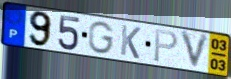5: (56, 13, 82, 51)
9: (28, 10, 55, 48)
G: (88, 20, 116, 56)
K: (119, 23, 142, 61)
P: (153, 28, 180, 64)
V: (179, 29, 212, 72)
